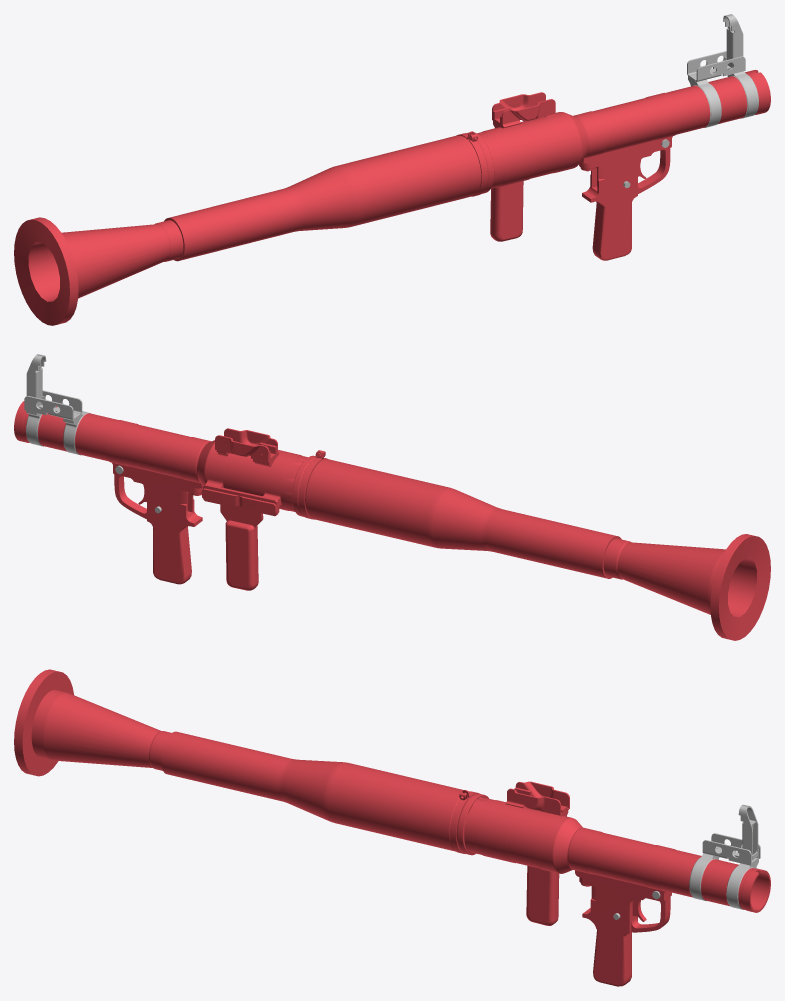
Rendered from weapon.glb.
The picture shows the model from 3 angles, top to bottom: view 1: azimuth 30°, elevation 25°; view 2: azimuth 150°, elevation 25°; view 3: azimuth 330°, elevation 25°; orthographic projection.
Visible parts, largest first — view 1: RPG7, RPG7.001, RPG7.003; view 2: RPG7, RPG7.001, RPG7.003; view 3: RPG7, RPG7.001, RPG7.003.
Part boxes in pixels (bbox=[...]): RPG7: bbox=[14, 70, 770, 325]; RPG7.001: bbox=[687, 14, 745, 81]; RPG7.003: bbox=[688, 57, 758, 127]; RPG7: bbox=[14, 401, 770, 640]; RPG7.001: bbox=[24, 354, 82, 420]; RPG7.003: bbox=[26, 396, 90, 455]; RPG7: bbox=[14, 669, 770, 986]; RPG7.001: bbox=[702, 804, 760, 865]; RPG7.003: bbox=[689, 848, 758, 909].
Size of the model in its own units: 62.84 by 16.84 by 8.19.
